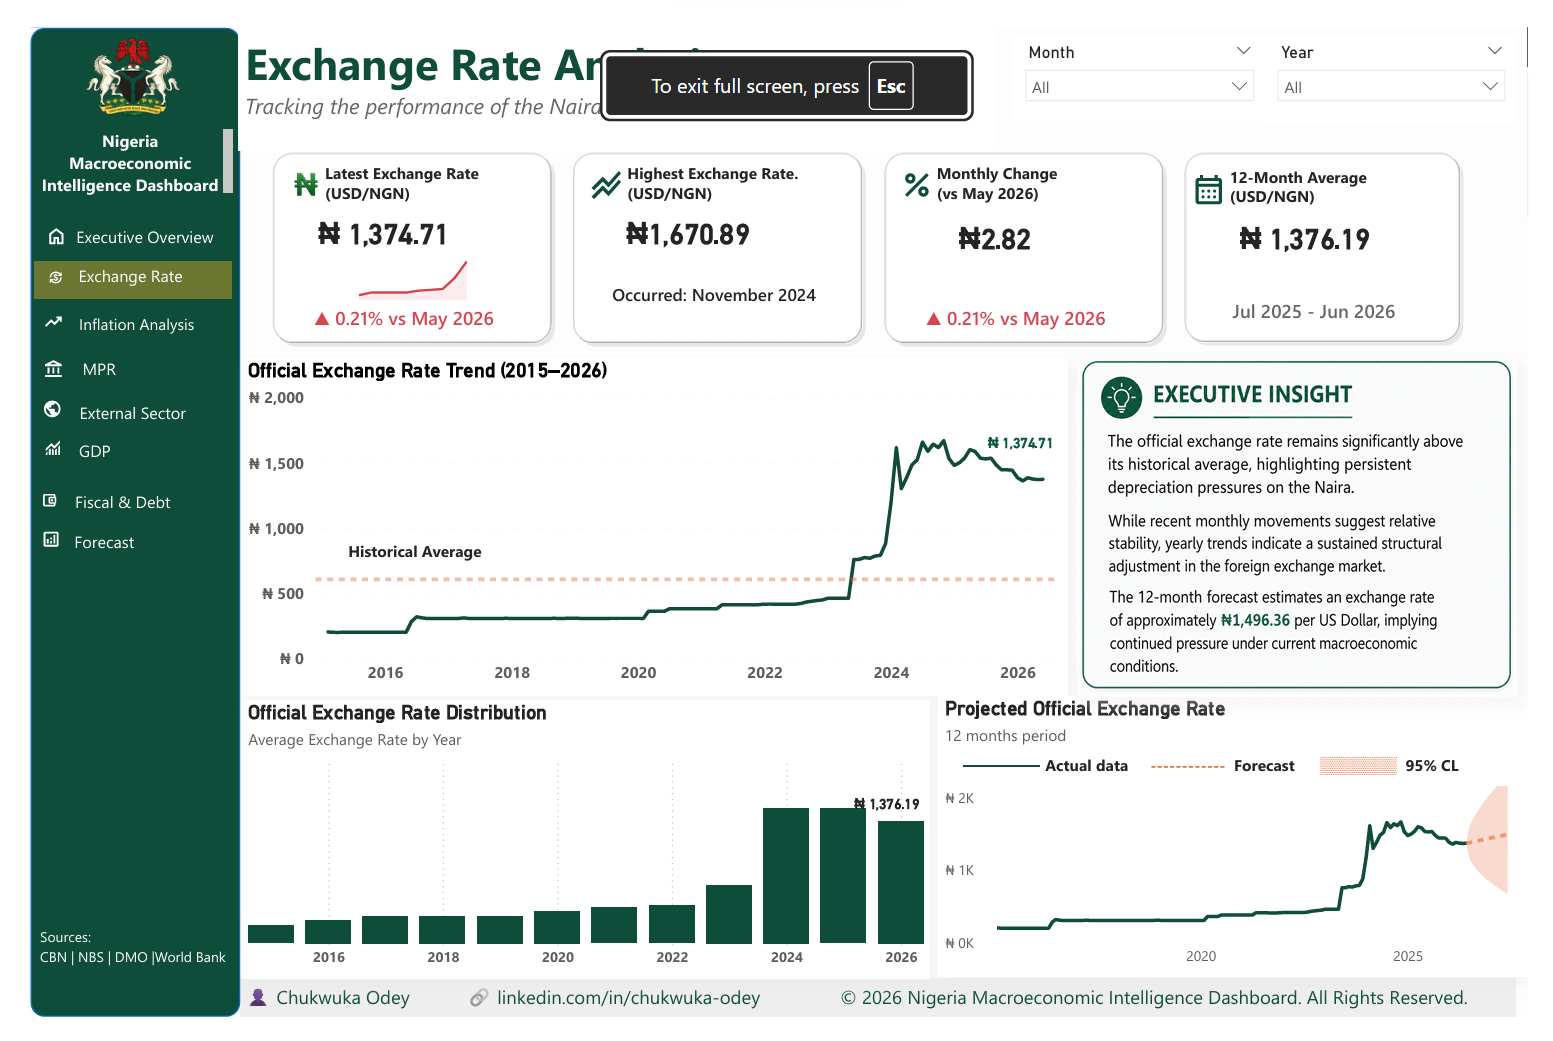

The page's visual inventory and layout, read from the dashboard file:
{"tool":"powerbi","page":{"name":"Exchange Rate Analysis","canvas":[1290,850],"ordinal":2},"visuals":[{"type":"shape","box":[2.9,0,180.5,850.3],"z":0},{"type":"shape","box":[206,101.7,250,173.9],"z":0,"group":"g9"},{"type":"shape","box":[731.8,102.1,249.5,173.9],"z":0,"group":"g11"},{"type":"shape","box":[464.3,102.4,259,173.9],"z":0,"group":"g12"},{"type":"shape","box":[990.3,102.4,246.9,173.2],"z":0,"group":"g10"},{"type":"textbox","title":"Executive Overview","box":[17.6,165.4,155,31.8],"z":0,"group":"g7"},{"type":"actionButton","box":[5.5,201.2,170,32.1],"z":0,"group":"g8"},{"type":"image","box":[14,244.1,16.9,17.2],"z":0,"group":"g6"},{"type":"textbox","title":"Executive Overview","box":[13.5,272.8,158.6,36.2],"z":0,"group":"g5"},{"type":"shape","box":[902.3,283,378.2,291.6],"z":0,"group":"g16"},{"type":"lineChart","title":"Official Exchange Rate Trend (2015–2026)","fields":{"Y":["Measures (2).Latest Exchange Rate"],"Category":["Exchange_Rate.Date"]},"box":[184.8,284.4,710,290],"z":0,"group":"g13"},{"type":"textbox","title":"Executive Overview","box":[3.3,316.3,160,29.4],"z":0,"group":"g4"},{"type":"textbox","title":"Executive Overview","box":[3.1,348.6,163.9,34.4],"z":0,"group":"g3"},{"type":"textbox","title":"Executive Overview","box":[10.1,392.2,150.3,29.2],"z":0,"group":"g2"},{"type":"image","box":[12.1,430.6,16.7,17.2],"z":0,"group":"g1"},{"type":"image","title":"Coat of Arm","box":[0,0,182.1,107.5],"z":1000},{"type":"card","title":"Card 1","fields":{"Values":["Measures (2).Highest Exchange Rate"]},"box":[495.4,155.3,145.9,41.7],"z":1000,"group":"g12"},{"type":"card","title":"Card 1","fields":{"Values":["Measures (2).12-Month Average Exchange Rate"]},"box":[1029.3,160.1,138.6,41.9],"z":1000,"group":"g10"},{"type":"image","box":[16.4,170.5,17.4,17.9],"z":1000,"group":"g7"},{"type":"image","box":[15.6,209.1,17,11.4],"z":1000,"group":"g8"},{"type":"card","title":"Card 2","fields":{"Values":["Measures (2).Exchange Rate Change Display"]},"box":[229.7,238,188.3,26.4],"z":1000,"group":"g9"},{"type":"card","title":"Card 2","fields":{"Values":["Measures (2).Exchange Rate Change Display"]},"box":[755.5,238.4,187.9,26.4],"z":1000,"group":"g11"},{"type":"textbox","title":"Executive Overview","box":[14,241,158.5,29.4],"z":1000,"group":"g6"},{"type":"image","box":[903.4,281.6,378.2,291.6],"z":1000,"group":"g16"},{"type":"image","box":[13.4,284.9,16.9,17.1],"z":1000,"group":"g5"},{"type":"image","box":[13.3,319.4,16.8,17],"z":1000,"group":"g4"},{"type":"actionButton","box":[10.9,347.9,162.2,36],"z":1000,"group":"g3"},{"type":"image","box":[10.1,398.7,16.8,14.2],"z":1000,"group":"g2"},{"type":"textbox","title":"Executive Overview","box":[1,426.2,165.8,29.6],"z":1000,"group":"g1"},{"type":"textbox","box":[270.4,436.8,174.5,29.2],"z":1000,"group":"g13"},{"type":"textbox","box":[3,82.1,179.1,65.7],"z":2000},{"type":"textbox","box":[1028.8,114.8,181.9,52],"z":2000,"group":"g10"},{"type":"card","title":"Card 1","fields":{"Values":["Measures (2).Latest Exchange Rate"]},"box":[236.1,154.6,140.8,41.7],"z":2000,"group":"g9"},{"type":"card","title":"Card 1","fields":{"Values":["Measures (2).Monthly Change"]},"box":[762.1,159.8,140,41.9],"z":2000,"group":"g11"},{"type":"actionButton","box":[6,161.2,170,35.9],"z":2000,"group":"g7"},{"type":"textbox","title":"Exchange","box":[5.9,198.4,168.3,36],"z":2000,"group":"g8"},{"type":"cardVisual","fields":{"Data":["Measures (2).Highest Exchange Rate Display"]},"box":[473.9,200.4,240.3,55.2],"z":2000,"group":"g12"},{"type":"actionButton","box":[3.3,234.9,169.7,34.8],"z":2000,"group":"g6"},{"type":"actionButton","box":[4.8,274.6,169.2,34.9],"z":2000,"group":"g5"},{"type":"actionButton","box":[3.4,310.2,170.7,35.3],"z":2000,"group":"g4"},{"type":"card","title":"Card 1","fields":{"Values":["Measures (2).Latest Exchange Rate"]},"box":[813.6,340.6,80.1,37.1],"z":2000,"group":"g13"},{"type":"image","box":[12.8,353,17.8,16.4],"z":2000,"group":"g3"},{"type":"actionButton","box":[5,385.6,172.5,36.2],"z":2000,"group":"g2"},{"type":"actionButton","box":[3.3,421.6,167.5,35.3],"z":2000,"group":"g1"},{"type":"textbox","box":[251.3,111.2,167.7,50.1],"z":3000,"group":"g9"},{"type":"textbox","box":[777,111.6,167.4,50.1],"z":3000,"group":"g11"},{"type":"textbox","box":[511.2,111.9,173.8,50.1],"z":3000,"group":"g12"},{"type":"card","title":"Card 2","fields":{"Values":["Measures (2).12M Period"]},"box":[1012,232.3,189.1,27.4],"z":3000,"group":"g10"},{"type":"group","id":"g1","title":"Nav Forecasting & Outlook","box":[1,421.6,170,36],"z":3000},{"type":"image","box":[744.4,119.7,39.5,30.6],"z":4000,"group":"g11"},{"type":"image","box":[477.4,120,41,30.6],"z":4000,"group":"g12"},{"type":"image","box":[996.1,124.1,39,30.3],"z":4000,"group":"g10"},{"type":"lineChart","fields":{"Category":["Fiscal.Year"],"Y":["Measures (2).Latest Exchange Rate"]},"box":[219.2,176.8,184.2,62.6],"z":4000,"group":"g9"},{"type":"group","id":"g2","title":"Nav Fiscal & Debt Analysis","box":[5,385.6,172.5,36.2],"z":4000},{"type":"image","box":[218.7,119.3,39.6,30.6],"z":5000,"group":"g9"},{"type":"group","id":"g3","title":"Nav Economic Growth","box":[3.1,347.9,170,36],"z":5000},{"type":"group","id":"g4","title":"Nav External Sector","box":[3.3,310.2,170,36],"z":6000},{"type":"group","id":"g5","title":"Nav Monetary Policy (MPR)","box":[4.8,272.8,169.2,36.7],"z":7000},{"type":"group","id":"g6","title":"Nav Inflation Analysis","box":[3.3,234.9,169.7,35.5],"z":8000},{"type":"group","id":"g7","title":"Nav - Executive Overview","box":[6,161.2,170,36],"z":9000},{"type":"group","id":"g8","title":"Nav - Exchange","box":[5.5,198.4,170,36],"z":10000},{"type":"textbox","box":[182.3,0,650,106.5],"z":11000},{"type":"group","id":"g9","title":"Latest Exchange KPI","box":[206,101.7,249.3,174.6],"z":12000},{"type":"group","id":"g10","title":"Annual KPI","box":[990.3,102.4,246.9,173.2],"z":13000},{"type":"group","id":"g11","title":"monthly KPI","box":[731.8,102.1,249.5,173.9],"z":14000},{"type":"group","id":"g12","title":"Highest Exchange","box":[464.3,102.4,258.4,173.2],"z":15000},{"type":"textbox","box":[183.3,817.1,1097.2,33.2],"z":16000},{"type":"group","id":"g13","title":"Group 1","box":[184.8,284.4,710,290],"z":17000},{"type":"group","id":"g14","title":"Group 2","box":[185.2,577.8,593.1,238.9],"z":18000},{"type":"clusteredColumnChart","title":"Official Exchange Rate Distribution","fields":{"Category":["Date.Year"],"Y":["Measures (2).Average Exchange Rate"]},"box":[185.2,577.8,590.7,238.9],"z":18000,"group":"g14"},{"type":"card","title":"Card 1","fields":{"Values":["Measures (2).12-Month Average Exchange Rate"]},"box":[700.3,651.7,78,33.2],"z":18500,"group":"g14"},{"type":"group","id":"g15","title":"Group 3","box":[783.9,574.6,506.7,241.1],"z":19000},{"type":"lineChart","title":"Projected Official Exchange Rate","fields":{"Category":["Exchange_Rate.Date"],"Y":["Measures (2).Latest Exchange Rate"]},"box":[783.9,574.6,506.7,241.1],"z":19000,"group":"g15"},{"type":"textbox","box":[799.8,619.3,480.7,31.8],"z":20000},{"type":"group","id":"g16","title":"Group 4","box":[902.3,281.6,379.3,293],"z":21000},{"type":"textbox","box":[5.8,766.6,171.8,66.4],"z":22000},{"type":"slicer","fields":{"Values":["Exchange_Rate.Year"]},"box":[1064.5,8.1,216.1,74.2],"z":23000},{"type":"slicer","fields":{"Values":["Date.Month"]},"box":[848.4,8.1,216.1,71],"z":24000}]}

Visuals, with their boxes on the page's 1290x850 design canvas (x1, y1, x2, y2). These are canvas units, not pixel positions in the 1553x1041 screenshot, which may show the page scaled, cropped or inside an application window:
shape: box=[3, 0, 183, 850]
shape: box=[206, 102, 456, 276]
shape: box=[732, 102, 981, 276]
shape: box=[464, 102, 723, 276]
shape: box=[990, 102, 1237, 276]
"Executive Overview" textbox: box=[18, 165, 173, 197]
actionButton: box=[6, 201, 176, 233]
image: box=[14, 244, 31, 261]
"Executive Overview" textbox: box=[14, 273, 172, 309]
shape: box=[902, 283, 1280, 575]
"Official Exchange Rate Trend (2015–2026)" lineChart: box=[185, 284, 895, 574]
"Executive Overview" textbox: box=[3, 316, 163, 346]
"Executive Overview" textbox: box=[3, 349, 167, 383]
"Executive Overview" textbox: box=[10, 392, 160, 421]
image: box=[12, 431, 29, 448]
"Coat of Arm" image: box=[0, 0, 182, 108]
"Card 1" card: box=[495, 155, 641, 197]
"Card 1" card: box=[1029, 160, 1168, 202]
image: box=[16, 170, 34, 188]
image: box=[16, 209, 33, 220]
"Card 2" card: box=[230, 238, 418, 264]
"Card 2" card: box=[756, 238, 943, 265]
"Executive Overview" textbox: box=[14, 241, 172, 270]
image: box=[903, 282, 1282, 573]
image: box=[13, 285, 30, 302]
image: box=[13, 319, 30, 336]
actionButton: box=[11, 348, 173, 384]
image: box=[10, 399, 27, 413]
"Executive Overview" textbox: box=[1, 426, 167, 456]
textbox: box=[270, 437, 445, 466]
textbox: box=[3, 82, 182, 148]
textbox: box=[1029, 115, 1211, 167]
"Card 1" card: box=[236, 155, 377, 196]
"Card 1" card: box=[762, 160, 902, 202]
actionButton: box=[6, 161, 176, 197]
"Exchange" textbox: box=[6, 198, 174, 234]
cardVisual - Measures (2).Highest Exchange Rate Display: box=[474, 200, 714, 256]
actionButton: box=[3, 235, 173, 270]
actionButton: box=[5, 275, 174, 310]
actionButton: box=[3, 310, 174, 346]
"Card 1" card: box=[814, 341, 894, 378]
image: box=[13, 353, 31, 369]
actionButton: box=[5, 386, 178, 422]
actionButton: box=[3, 422, 171, 457]
textbox: box=[251, 111, 419, 161]
textbox: box=[777, 112, 944, 162]
textbox: box=[511, 112, 685, 162]
"Card 2" card: box=[1012, 232, 1201, 260]
"Nav Forecasting & Outlook" group: box=[1, 422, 171, 458]
image: box=[744, 120, 784, 150]
image: box=[477, 120, 518, 151]
image: box=[996, 124, 1035, 154]
lineChart - Fiscal.Year x Measures (2).Latest Exchange Rate: box=[219, 177, 403, 239]
"Nav Fiscal & Debt Analysis" group: box=[5, 386, 178, 422]
image: box=[219, 119, 258, 150]
"Nav Economic Growth" group: box=[3, 348, 173, 384]
"Nav External Sector" group: box=[3, 310, 173, 346]
"Nav Monetary Policy (MPR)" group: box=[5, 273, 174, 310]
"Nav Inflation Analysis" group: box=[3, 235, 173, 270]
"Nav - Executive Overview" group: box=[6, 161, 176, 197]
"Nav - Exchange" group: box=[6, 198, 176, 234]
textbox: box=[182, 0, 832, 106]
"Latest Exchange KPI" group: box=[206, 102, 455, 276]
"Annual KPI" group: box=[990, 102, 1237, 276]
"monthly KPI" group: box=[732, 102, 981, 276]
"Highest Exchange" group: box=[464, 102, 723, 276]
textbox: box=[183, 817, 1280, 850]
"Group 1" group: box=[185, 284, 895, 574]
"Group 2" group: box=[185, 578, 778, 817]
"Official Exchange Rate Distribution" clusteredColumnChart: box=[185, 578, 776, 817]
"Card 1" card: box=[700, 652, 778, 685]
"Group 3" group: box=[784, 575, 1291, 816]
"Projected Official Exchange Rate" lineChart: box=[784, 575, 1291, 816]
textbox: box=[800, 619, 1280, 651]
"Group 4" group: box=[902, 282, 1282, 575]
textbox: box=[6, 767, 178, 833]
slicer - Exchange_Rate.Year: box=[1064, 8, 1281, 82]
slicer - Date.Month: box=[848, 8, 1064, 79]
